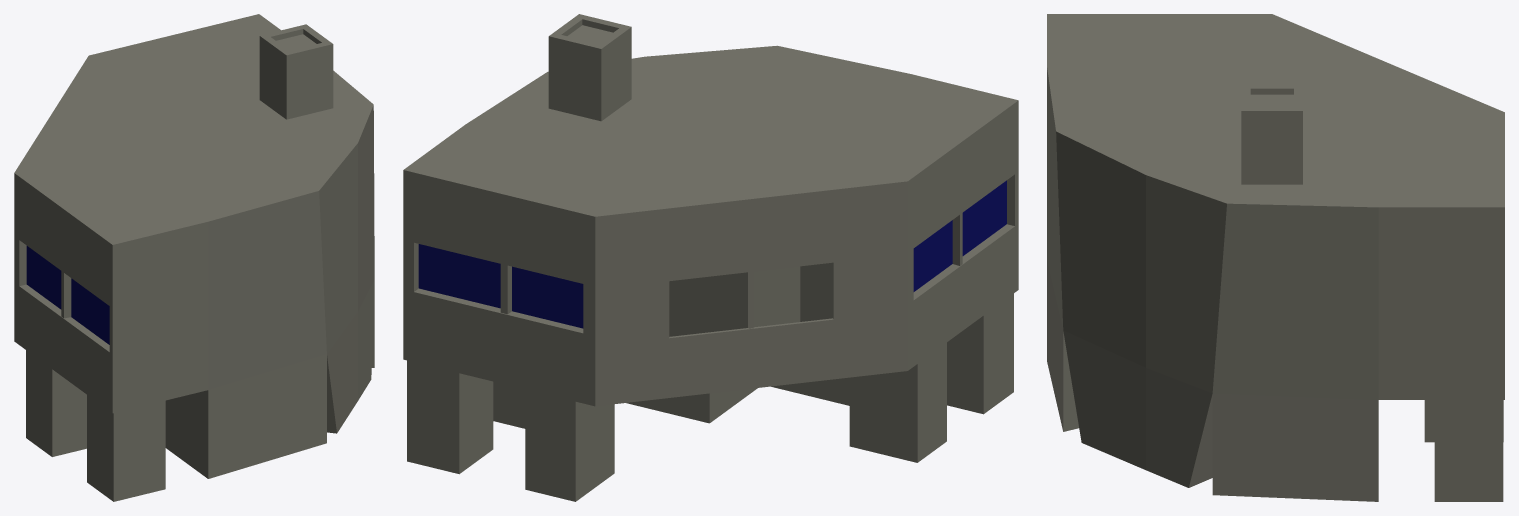
Rendered from 新ビル.fbx.
The picture shows the model from 3 angles, left to right: view 1: azimuth 30°, elevation 25°; view 2: azimuth 150°, elevation 25°; view 3: azimuth 270°, elevation 25°; orthographic projection. The views are drawn at different scales.
Visible parts, largest first — view 1: Cube, 立方体; view 2: Cube, 立方体; view 3: Cube, 立方体.
Part boxes in pixels (x1,y1,x2,y2): Cube: (14,14,374,501); 立方体: (259,24,333,119); Cube: (403,45,1018,501); 立方体: (548,14,631,121); Cube: (1047,14,1504,501); 立方体: (1241,85,1302,184).
Size of the model in its own units: 431 by 384 by 431.
